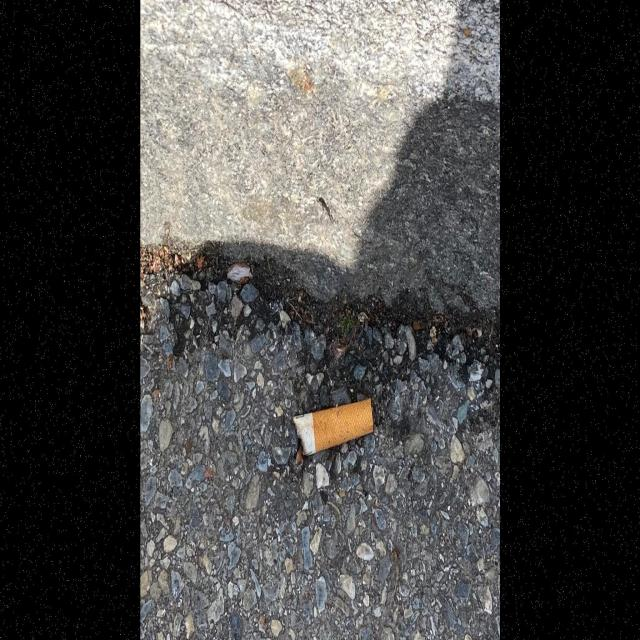other waste: (291, 396, 375, 456)
